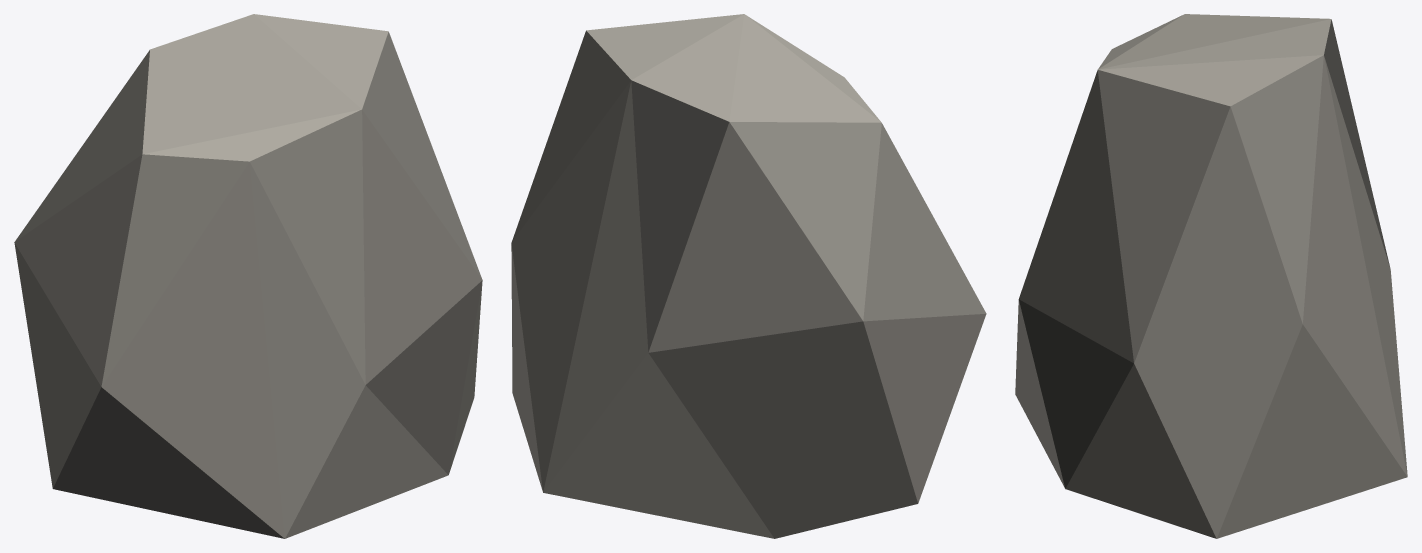
Rendered from rock_a.glb.
The picture shows the model from 3 angles, left to right: view 1: azimuth 30°, elevation 25°; view 2: azimuth 150°, elevation 25°; view 3: azimuth 270°, elevation 25°; orthographic projection. The views are drawn at different scales.
Visible parts, largest first — view 1: rock_a__mesh; view 2: rock_a__mesh; view 3: rock_a__mesh.
Part boxes in pixels (x1,y1,x2,y2): rock_a__mesh: [14, 14, 482, 538]; rock_a__mesh: [511, 14, 986, 538]; rock_a__mesh: [1015, 14, 1407, 538].
Size of the model in its own units: 1.05 by 0.9253 by 0.8249.
Materials: 1 (1 with a texture image).
